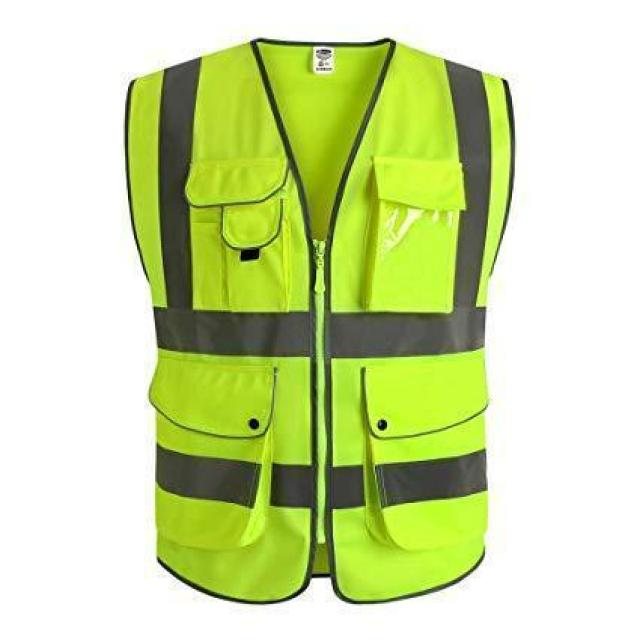Vest: (118, 34, 516, 600)
